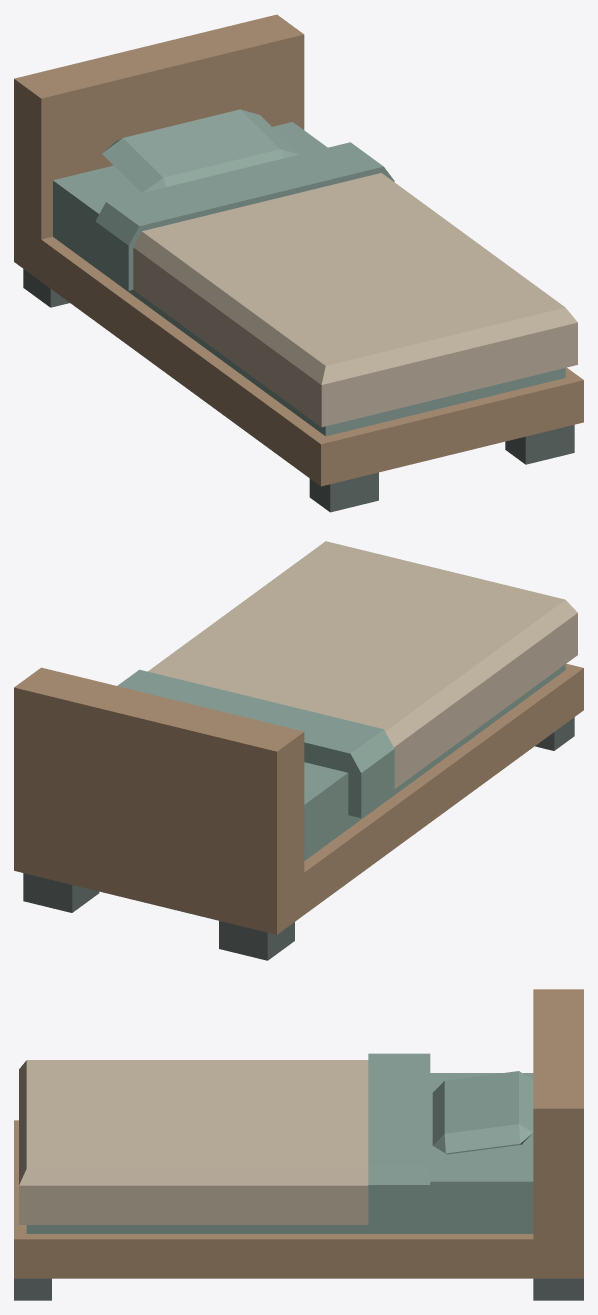
The model's file is single_bed.glb.
The picture shows the model from 3 angles, top to bottom: view 1: azimuth 30°, elevation 25°; view 2: azimuth 150°, elevation 25°; view 3: azimuth 270°, elevation 25°; orthographic projection. The views are drawn at different scales.
Parts seen in each view (by area): view 1: cover, bedSingle(Clone), pillow; view 2: bedSingle(Clone), cover; view 3: cover, bedSingle(Clone), pillow.
Boxes of the visible parts, box(x1,y1,x2,y2) form: cover: box(95, 142, 577, 427); bedSingle(Clone): box(14, 14, 583, 512); pillow: box(102, 109, 299, 192); bedSingle(Clone): box(14, 663, 583, 960); cover: box(117, 541, 577, 817); cover: box(19, 1053, 430, 1226); bedSingle(Clone): box(14, 989, 583, 1300); pillow: box(432, 1071, 533, 1154).
Bounding box in the file's own units: 1 × 0.76 × 2.
